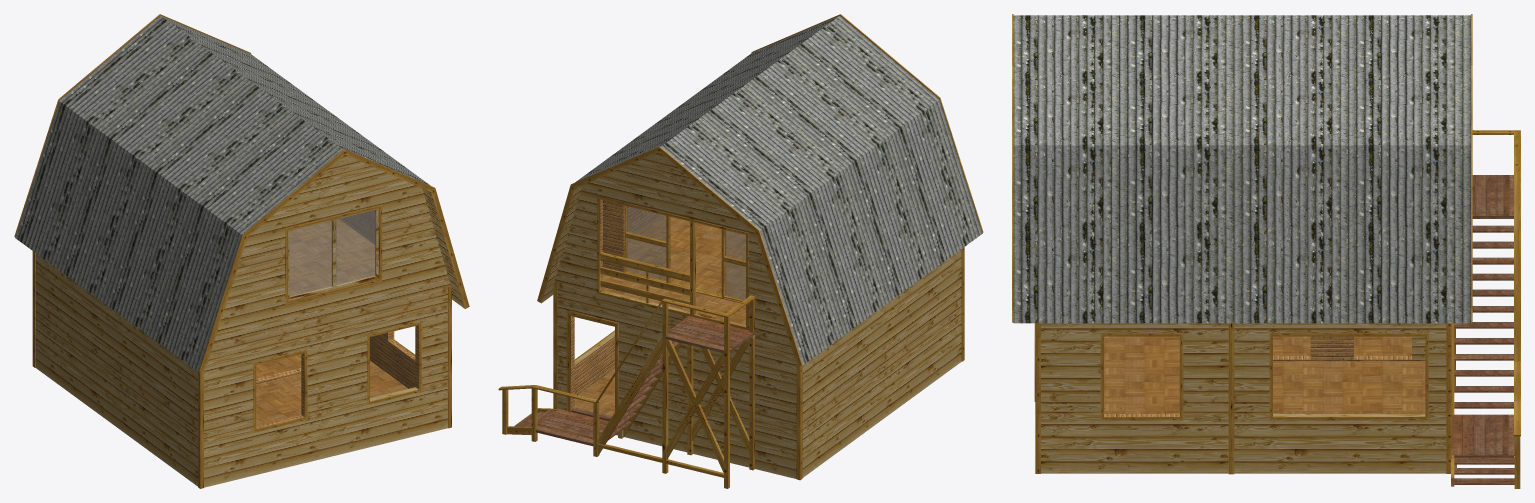
Rendered from dachniy_house_kabana.glb.
3 renders of one model, left to right at view 1: azimuth 30°, elevation 25°; view 2: azimuth 150°, elevation 25°; view 3: azimuth 270°, elevation 25°, orthographic. The views are drawn at different scales.
Visible parts, largest first — view 1: House; view 2: House; view 3: House.
Part boxes in pixels (box(x1,y1,x2,y2)): House: box(14, 14, 469, 488); House: box(498, 14, 983, 488); House: box(1012, 14, 1520, 488).
Bounding box in the file's own units: 237 × 245 × 290.
Materials: 8 (6 with a texture image).
